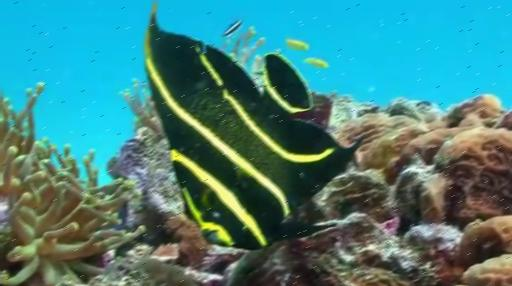Fish: (146, 3, 358, 248)
